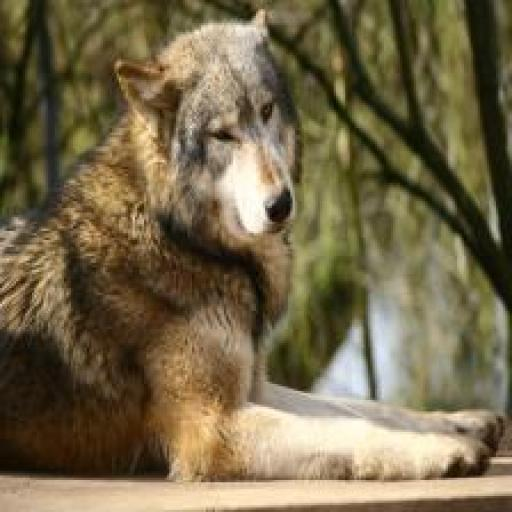wolf: (0, 9, 506, 482)
